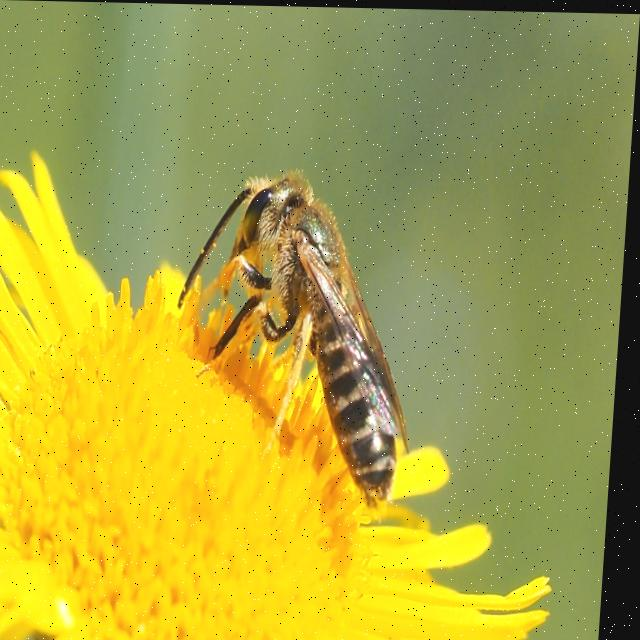Lasioglossum: (157, 125, 448, 529)
